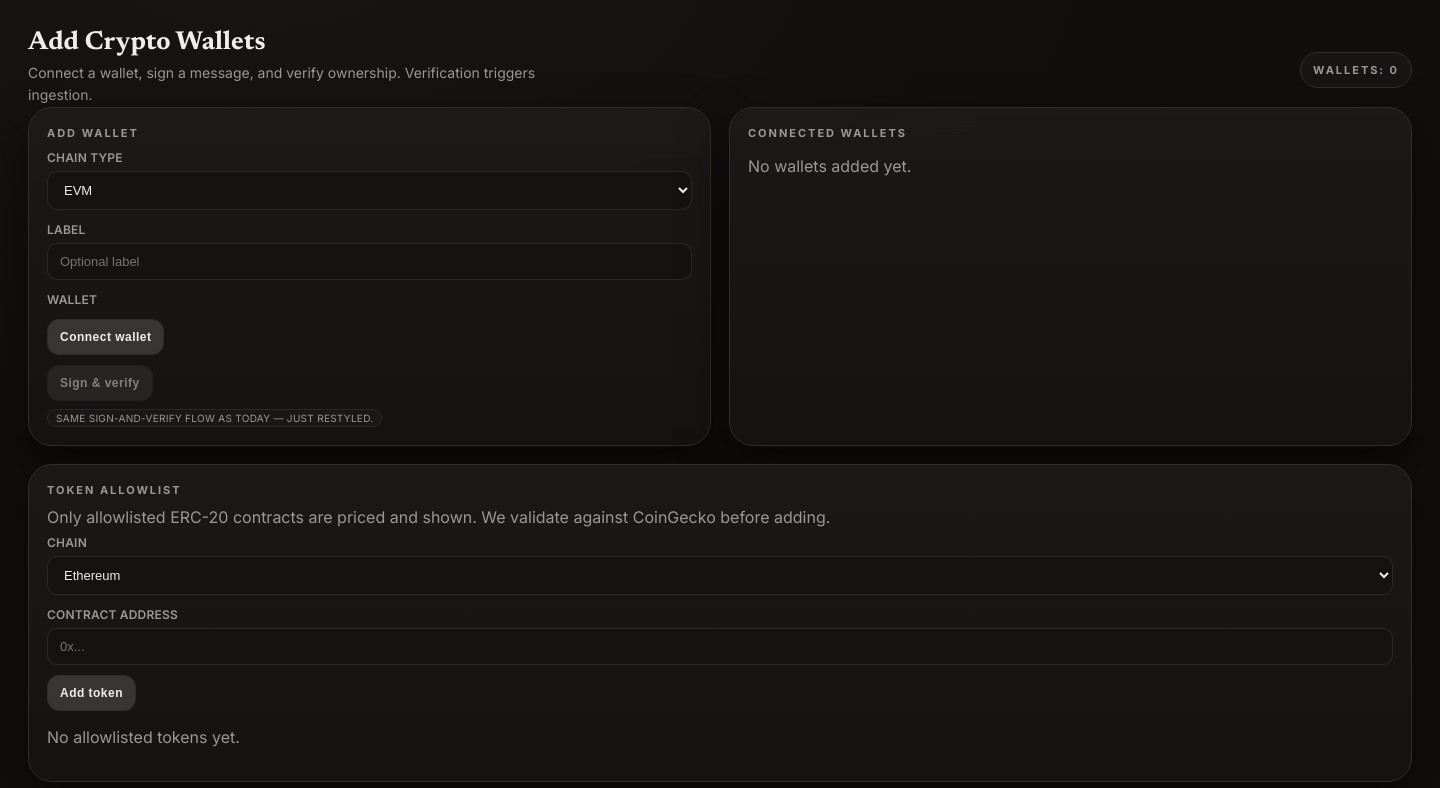
it: CryptoWallets route › shows Solana connection error when trying to verify without a connected wallet
Select "Solana" in the dropdown labelled "Chain Type" at (370, 190), box [47, 171, 692, 210]
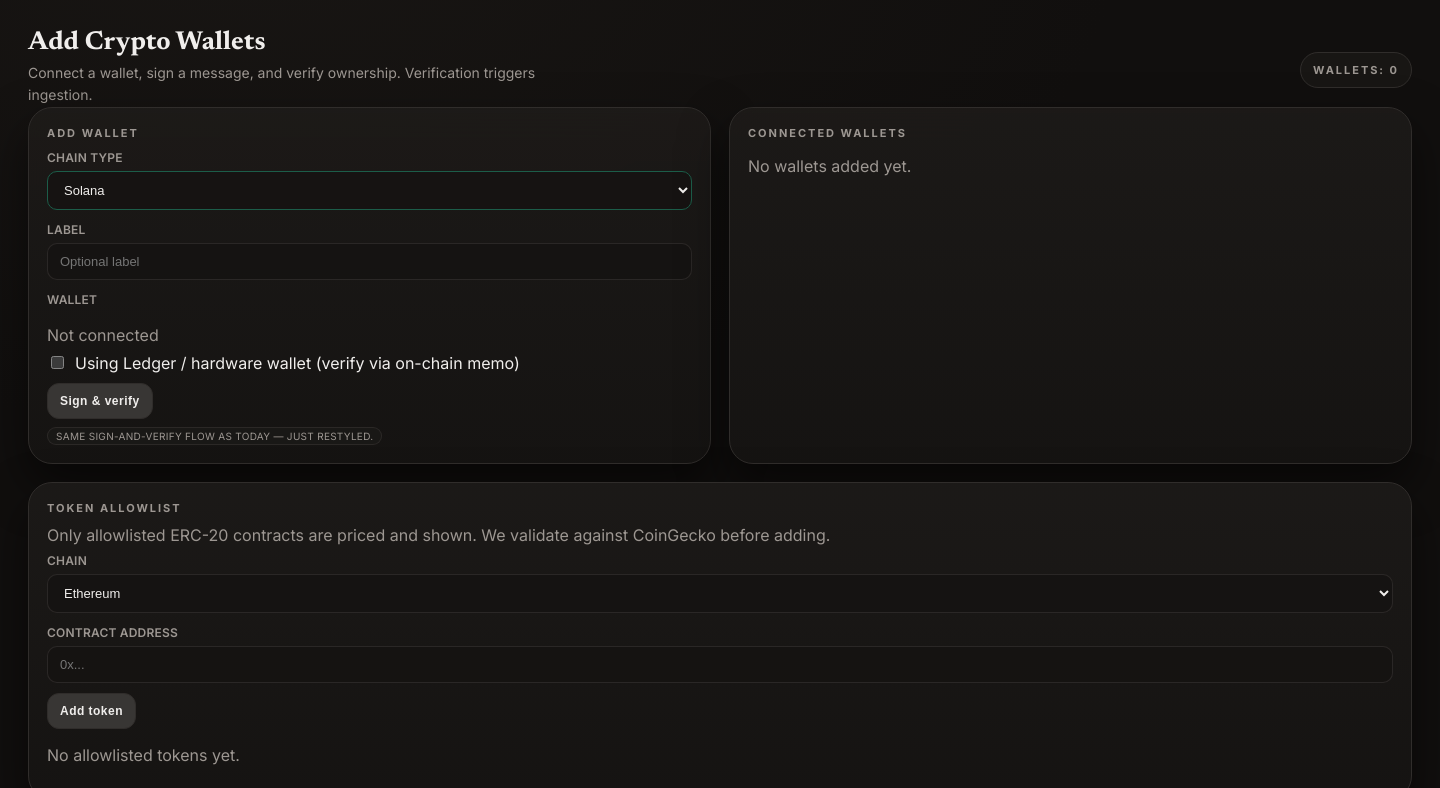
Click the button "Sign & verify".
click(100, 401)  # box [47, 383, 153, 419]
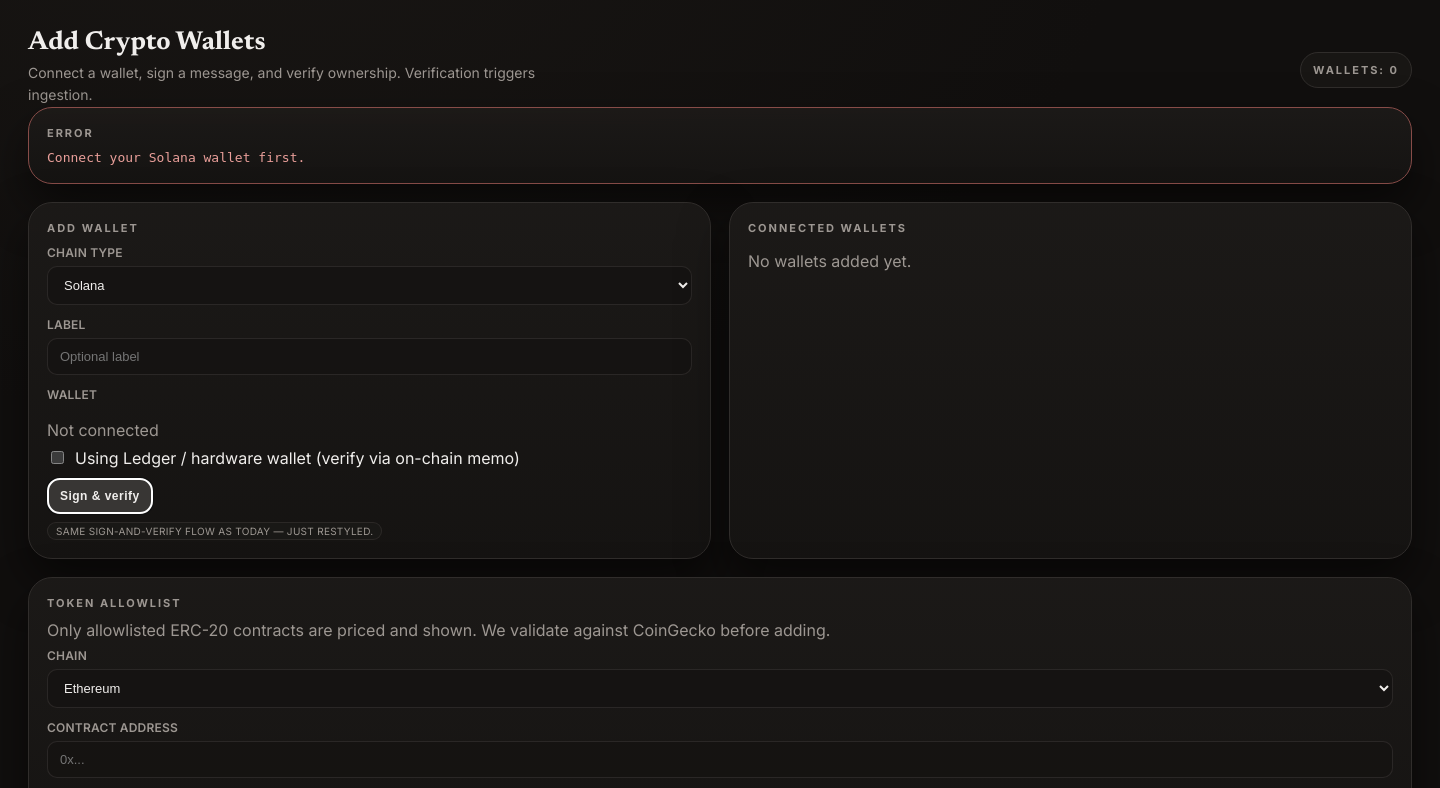
Expected: the text "Connect your Solana wallet first." is shown, [47, 150, 305, 165]
